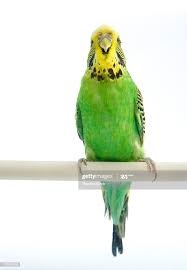budgie: (76, 23, 158, 256)
